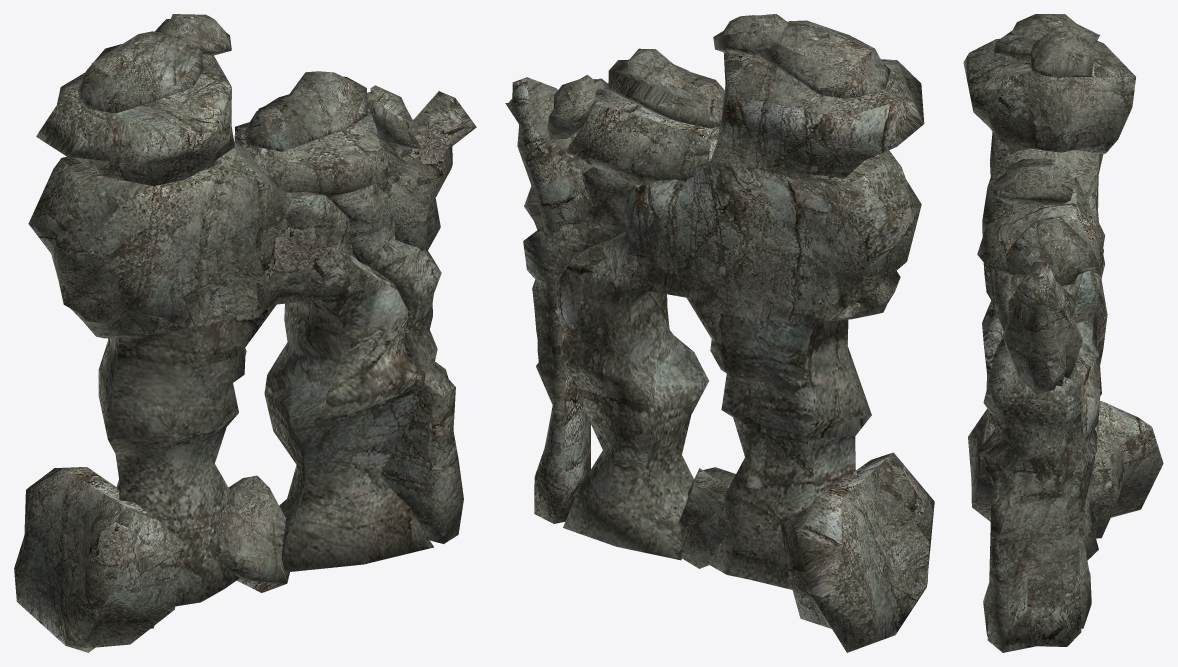
File: rock_scandiv_01.glb
The picture shows the model from 3 angles, left to right: view 1: azimuth 30°, elevation 25°; view 2: azimuth 150°, elevation 25°; view 3: azimuth 270°, elevation 25°; orthographic projection. The views are drawn at different scales.
Visible parts, largest first — view 1: rock_scandiv_01; view 2: rock_scandiv_01; view 3: rock_scandiv_01.
Boxes of the visible parts, box(x1,y1,x2,y2) form: rock_scandiv_01: box(14, 14, 476, 652); rock_scandiv_01: box(505, 14, 934, 652); rock_scandiv_01: box(963, 14, 1163, 652).
Bounding box in the file's own units: 25.62 × 35.02 × 11.47.
1 material, 1 textured.
